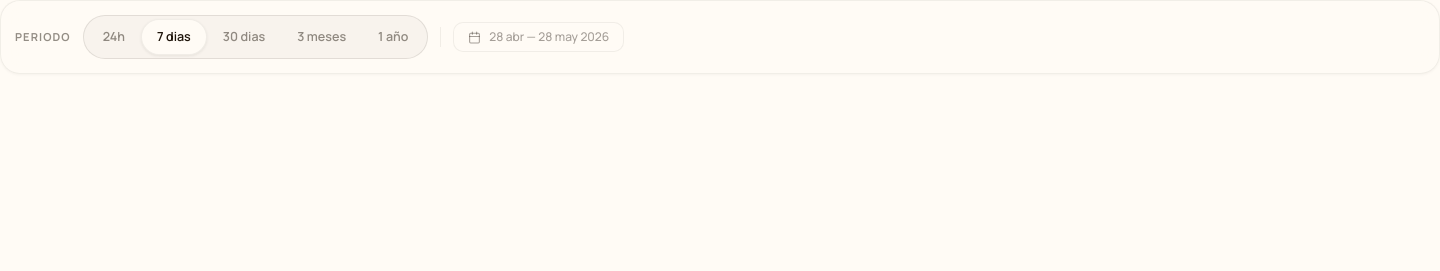
Test case: DateRangeControls › opens popover when custom button is clicked
Step 1. Click the button → click(539, 37), box [453, 22, 624, 52]
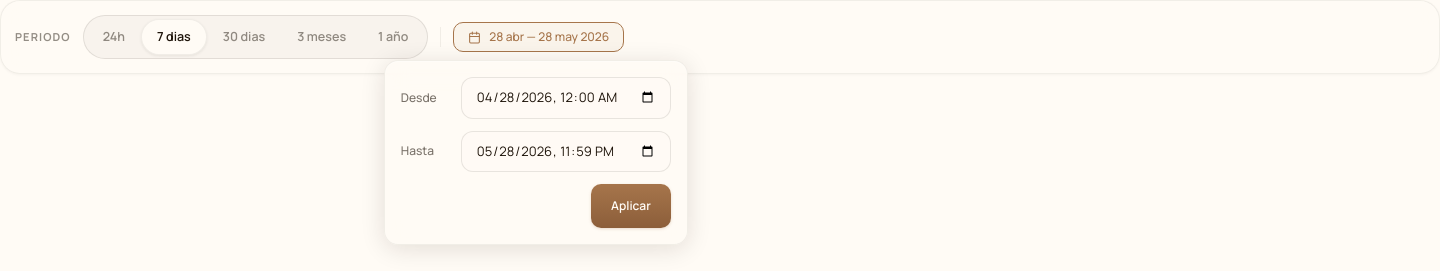
Check: the button "Aplicar" is shown, box [591, 184, 671, 228]
Check: the field labelled "Desde" holds "2026-04-28T00:00", box [461, 77, 671, 118]
Check: the field labelled "Hasta" holds "2026-05-28T23:59", box [461, 130, 671, 172]
